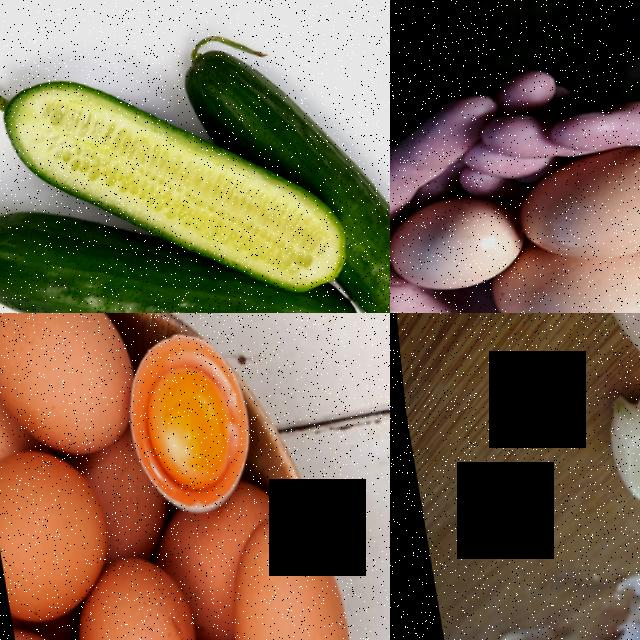cucumber: (2, 57, 220, 272), (0, 195, 171, 313), (170, 41, 313, 173), (335, 180, 390, 313), (156, 289, 356, 313)
egg_: (0, 313, 132, 462), (506, 138, 640, 282), (206, 512, 351, 640), (0, 447, 94, 626), (390, 189, 520, 306), (132, 364, 230, 499), (54, 555, 194, 640), (486, 254, 640, 313)
garlic: (592, 396, 640, 525), (575, 313, 640, 402)
